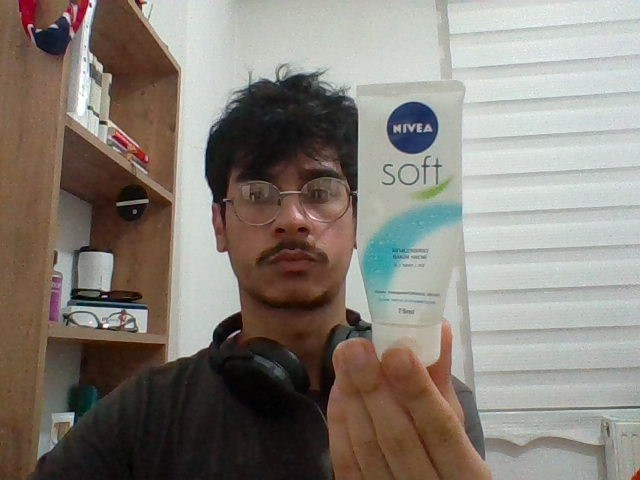NiveaSoft: (354, 84, 468, 363)
